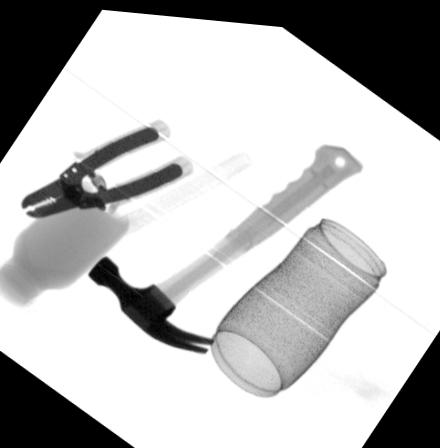Hammer: (85, 134, 363, 349)
Pliers: (21, 114, 195, 217)
